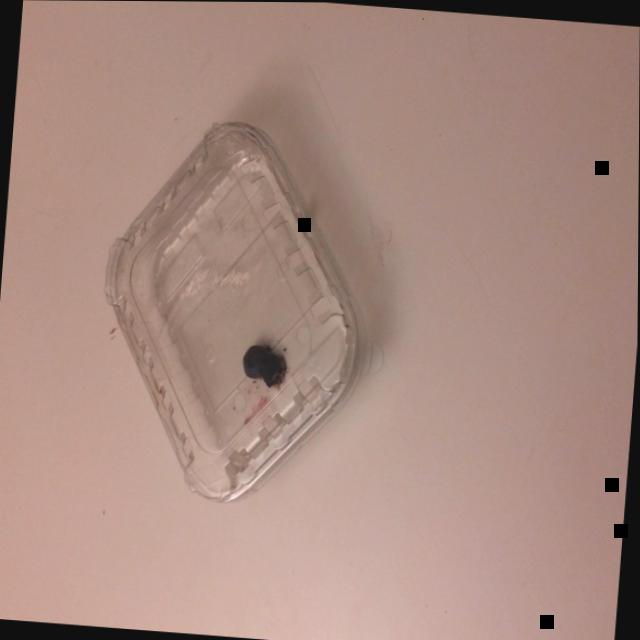Disposable food container: (103, 121, 383, 502)
Food waste: (242, 344, 286, 386)
